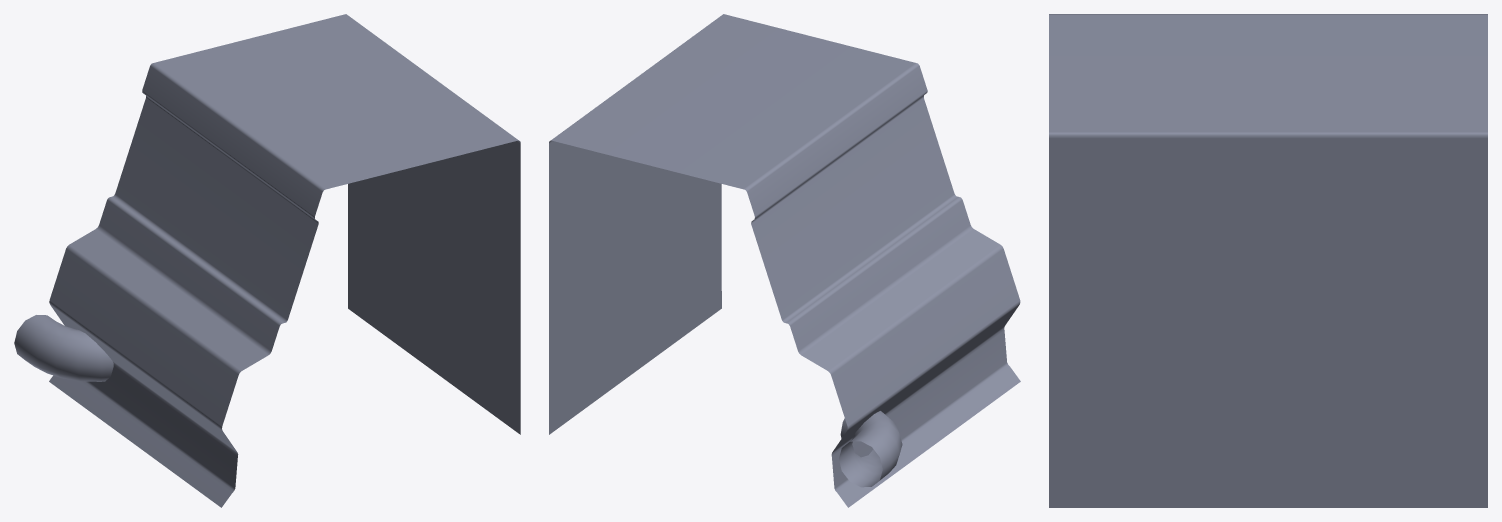
Rendered from Wall5TEST.fbx.
3 renders of one model, left to right at view 1: azimuth 30°, elevation 25°; view 2: azimuth 150°, elevation 25°; view 3: azimuth 270°, elevation 25°, orthographic. The views are drawn at different scales.
Visible parts, largest first — view 1: Wall5; view 2: Wall5; view 3: Wall5.
Boxes of the visible parts, <box> form: Wall5: <box>14,14,520,507</box>; Wall5: <box>549,14,1020,507</box>; Wall5: <box>1049,14,1487,507</box>.
Size of the model in its own units: 1.12 by 0.9425 by 1.
